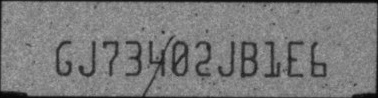0: (171, 40, 189, 76)
1: (263, 38, 281, 78)
2: (195, 39, 211, 77)
3: (125, 40, 143, 76)
4: (148, 40, 166, 77)
6: (309, 40, 328, 78)
7: (102, 39, 119, 76)
B: (240, 39, 259, 77)
E: (287, 39, 304, 78)
G: (55, 39, 73, 76)
J: (77, 38, 95, 78), (218, 39, 235, 77)
